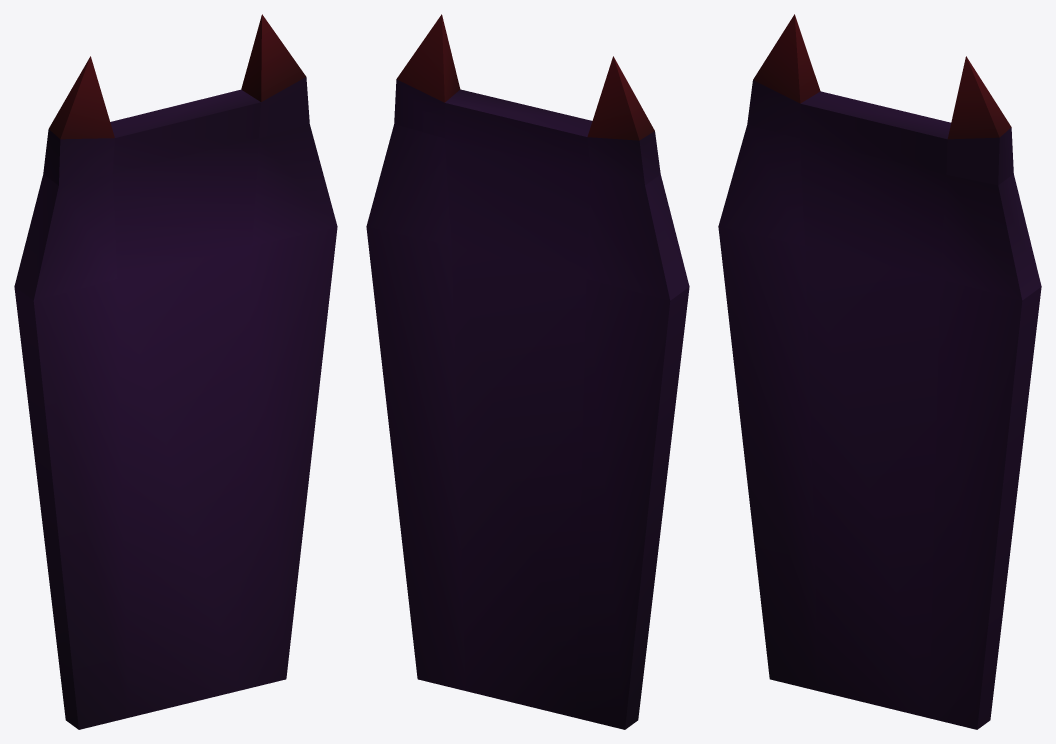
Rendered from EspelhoChefao.fbx.
The picture shows the model from 3 angles, left to right: view 1: azimuth 30°, elevation 25°; view 2: azimuth 150°, elevation 25°; view 3: azimuth 330°, elevation 25°; orthographic projection.
Visible parts, largest first — view 1: EspelhoChefao; view 2: EspelhoChefao; view 3: EspelhoChefao.
Boxes of the visible parts, x1,y1,x2,y2 form: EspelhoChefao: (14, 14, 337, 729); EspelhoChefao: (366, 14, 689, 729); EspelhoChefao: (718, 14, 1041, 729).
Bounding box in the file's own units: 705 × 1475 × 77.61.
